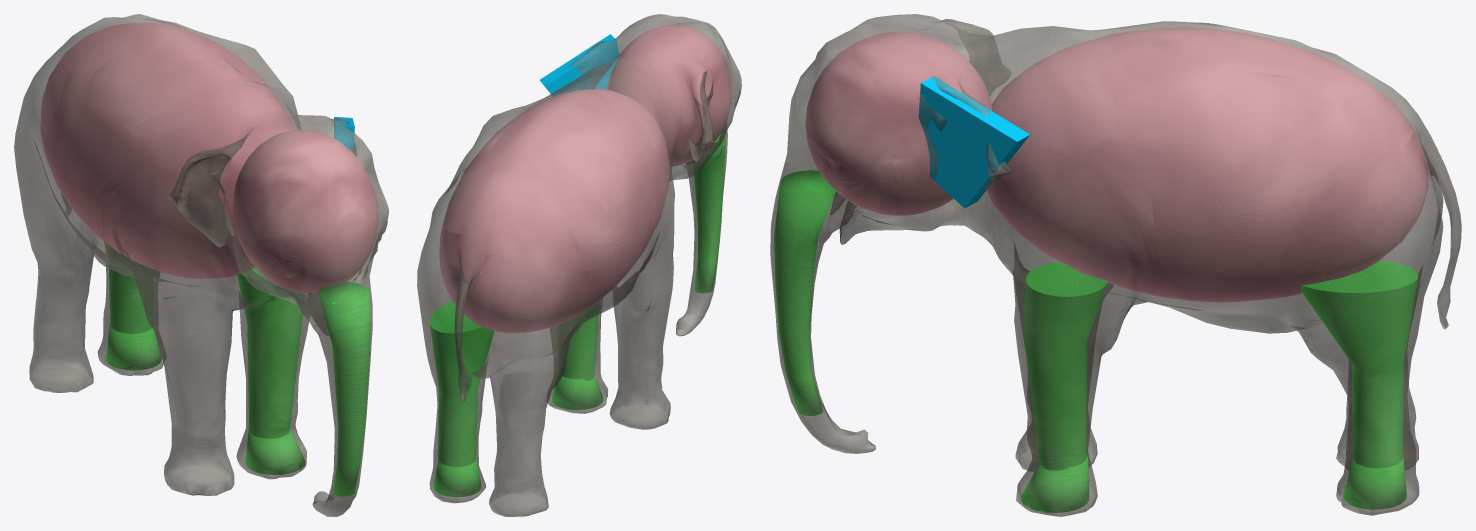
File: elephant_shape.glb
The picture shows the model from 3 angles, left to right: view 1: azimuth 30°, elevation 25°; view 2: azimuth 150°, elevation 25°; view 3: azimuth 270°, elevation 25°; orthographic projection. The views are drawn at different scales.
Parts seen in each view (by area): view 1: Mesh_0, Sphere.001, Sphere, Cylinder, Cylinder.004, Cylinder.001, Cylinder.002, Cylinder.003, Plane; view 2: Mesh_0, Sphere.001, Sphere, Cylinder.002, Cylinder.004, Plane, Cylinder, Cylinder.003, Cylinder.001; view 3: Mesh_0, Sphere.001, Sphere, Cylinder.002, Cylinder, Cylinder.004, Plane, Cylinder.001, Cylinder.003.
Boxes of the visible parts, x1,y1,x2,y2 form: Mesh_0: (14, 14, 388, 516); Sphere.001: (40, 22, 294, 278); Sphere: (232, 129, 378, 293); Cylinder: (237, 268, 302, 438); Cylinder.004: (318, 282, 370, 496); Cylinder.001: (245, 428, 305, 474); Cylinder.002: (109, 268, 151, 333); Cylinder.003: (106, 323, 161, 370); Plane: (334, 117, 354, 152); Mesh_0: (417, 14, 741, 516); Sphere.001: (439, 89, 669, 333); Sphere: (607, 25, 732, 166); Cylinder.002: (429, 301, 494, 466); Cylinder.004: (694, 134, 725, 293); Plane: (540, 34, 619, 95); Cylinder: (562, 315, 598, 380); Cylinder.003: (433, 459, 481, 497); Cylinder.001: (552, 376, 603, 409); Mesh_0: (770, 14, 1461, 516); Sphere.001: (987, 27, 1428, 302); Sphere: (805, 32, 992, 215); Cylinder.002: (1301, 260, 1418, 468); Cylinder: (1024, 262, 1107, 470); Cylinder.004: (774, 170, 835, 415); Plane: (918, 76, 1030, 208); Cylinder.001: (1020, 455, 1089, 512); Cylinder.003: (1343, 457, 1406, 509).
Bounding box in the file's own units: 0.7467 × 1.38 × 1.91.
4 materials, 1 textured.
